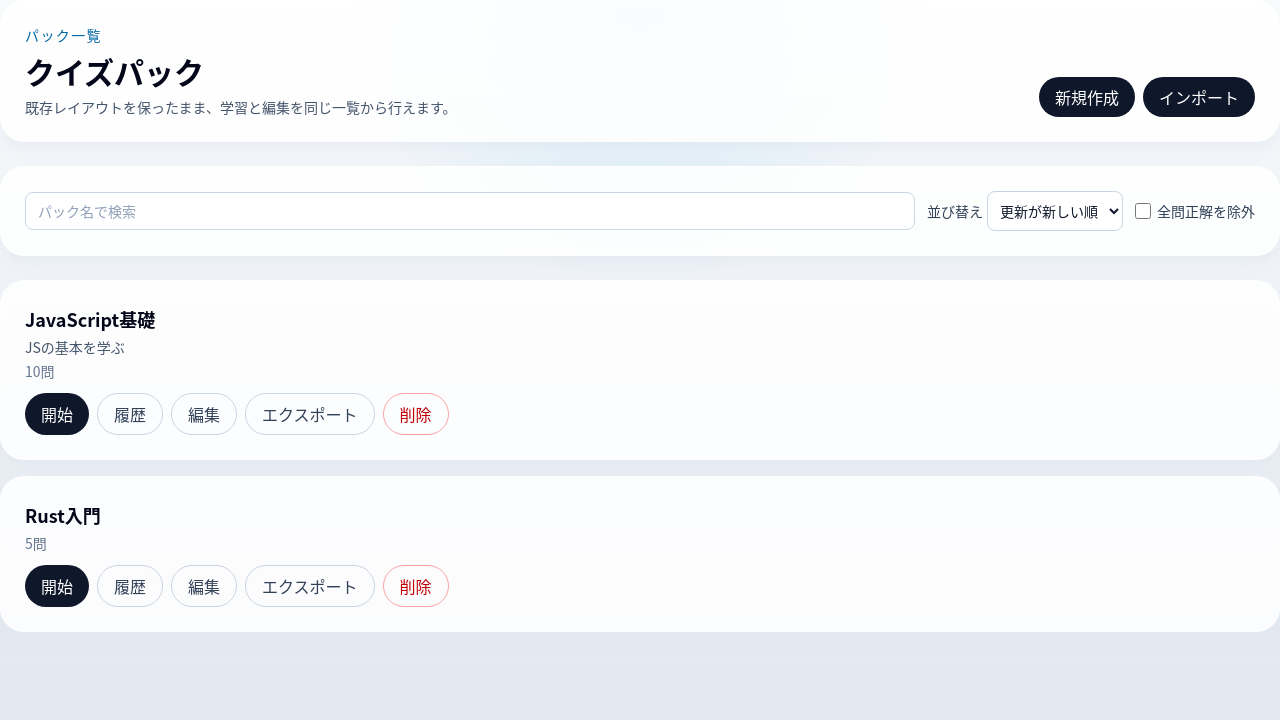
Test: HomePage › インポート機能 › 複数行のエラーメッセージが改行付きで表示される
Click the button "インポート" at (1199, 97), box [1143, 77, 1255, 117]
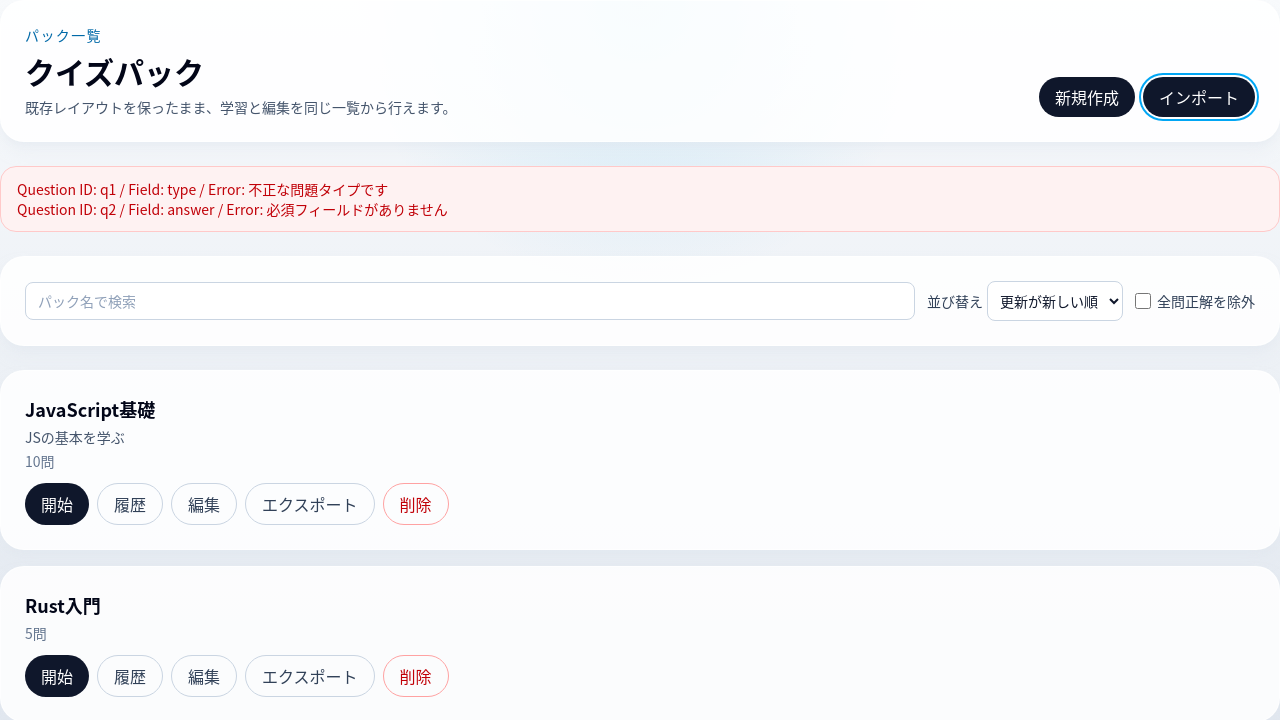
Expected: the text with test id "notification" shows "Question ID: q1", [17, 179, 448, 219]
Expected: the text with test id "notification" shows "Question ID: q2", [17, 179, 448, 219]
